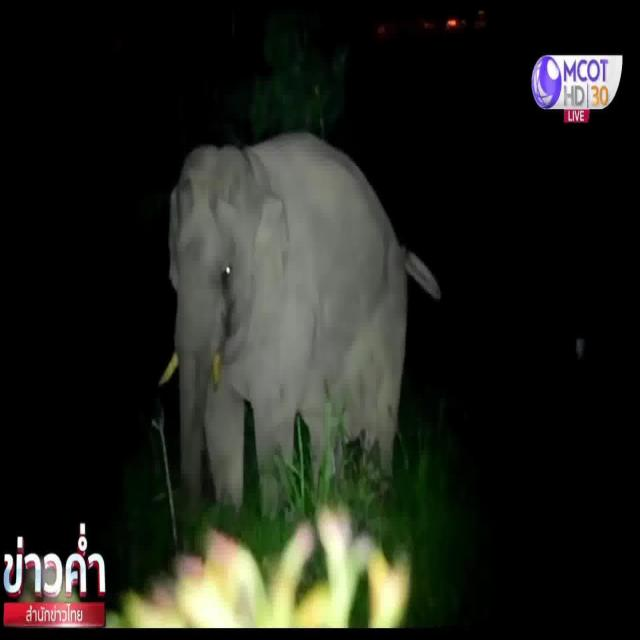Elephant: (152, 119, 405, 462)
